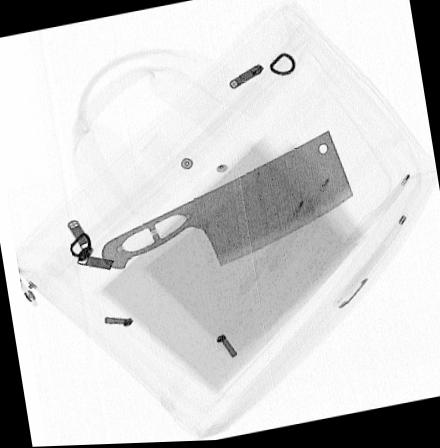Knife: (99, 131, 356, 271)
